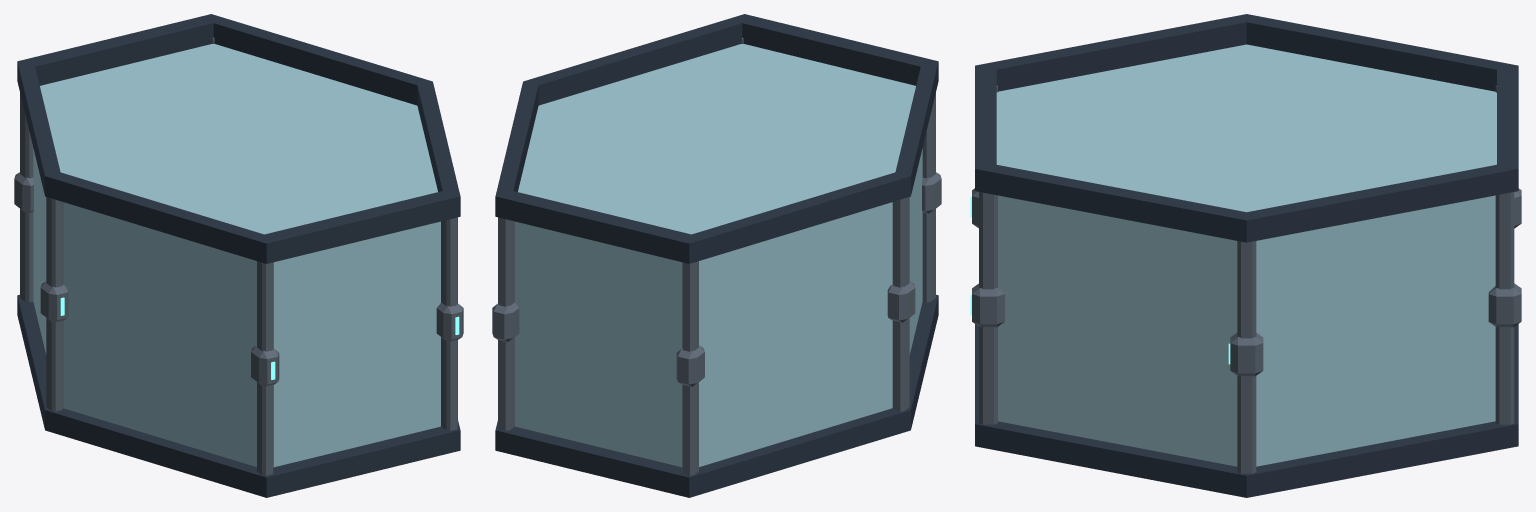
The model's file is scope_chamber.glb.
The picture shows the model from 3 angles, left to right: view 1: azimuth 30°, elevation 25°; view 2: azimuth 150°, elevation 25°; view 3: azimuth 270°, elevation 25°; orthographic projection. The views are drawn at different scales.
Visible parts, largest first — view 1: scope_chamber__glass, scope_chamber__rim__02, scope_chamber__rim, scope_chamber__frame, scope_chamber__anchor__04, scope_chamber__anchor__03, scope_chamber__anchor__02, scope_chamber__anchor__05; view 2: scope_chamber__glass, scope_chamber__rim__02, scope_chamber__rim, scope_chamber__frame, scope_chamber__anchor__05, scope_chamber__anchor__04, scope_chamber__anchor__06, scope_chamber__anchor__03; view 3: scope_chamber__glass, scope_chamber__rim__02, scope_chamber__rim, scope_chamber__frame, scope_chamber__frame_strut, scope_chamber__anchor, scope_chamber__anchor__06, scope_chamber__anchor__02.
Boxes of the visible parts, x1,y1,x2,y2 form: scope_chamber__glass: (33,44,440,467); scope_chamber__rim__02: (17,14,460,263); scope_chamber__rim: (17,294,460,497); scope_chamber__frame: (20,37,457,475); scope_chamber__anchor__04: (40,281,68,322); scope_chamber__anchor__03: (251,345,279,386); scope_chamber__anchor__02: (436,302,463,341); scope_chamber__anchor__05: (14,172,33,213); scope_chamber__glass: (515,44,922,467); scope_chamber__rim__02: (495,14,938,263); scope_chamber__rim: (495,294,938,497); scope_chamber__frame: (498,37,935,475); scope_chamber__anchor__05: (676,345,704,386); scope_chamber__anchor__04: (887,281,915,322); scope_chamber__anchor__06: (492,302,519,341); scope_chamber__anchor__03: (922,172,941,213); scope_chamber__glass: (996,44,1496,466); scope_chamber__rim__02: (975,14,1518,242); scope_chamber__rim: (975,324,1518,497); scope_chamber__frame: (979,85,1514,424); scope_chamber__frame_strut: (1237,241,1256,473); scope_chamber__anchor: (1230,332,1263,376); scope_chamber__anchor__06: (1488,283,1521,327); scope_chamber__anchor__02: (972,283,1004,327).
Bounding box in the file's own units: 8 × 5 × 9.
